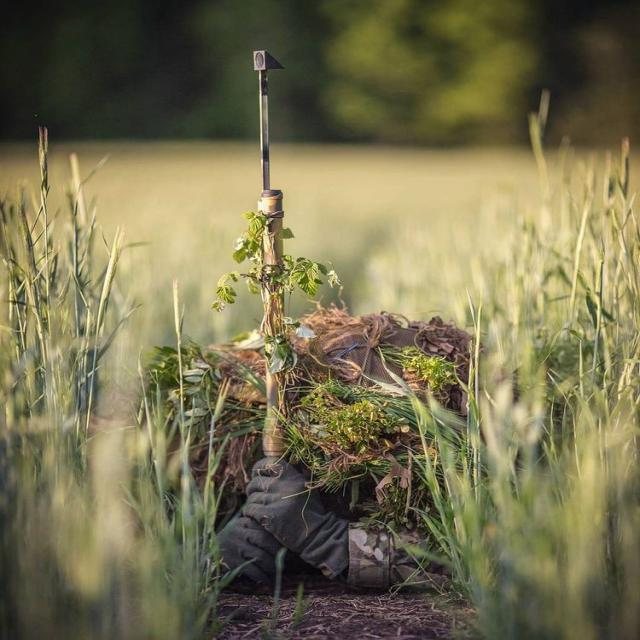Camouflage: (113, 51, 497, 596)
